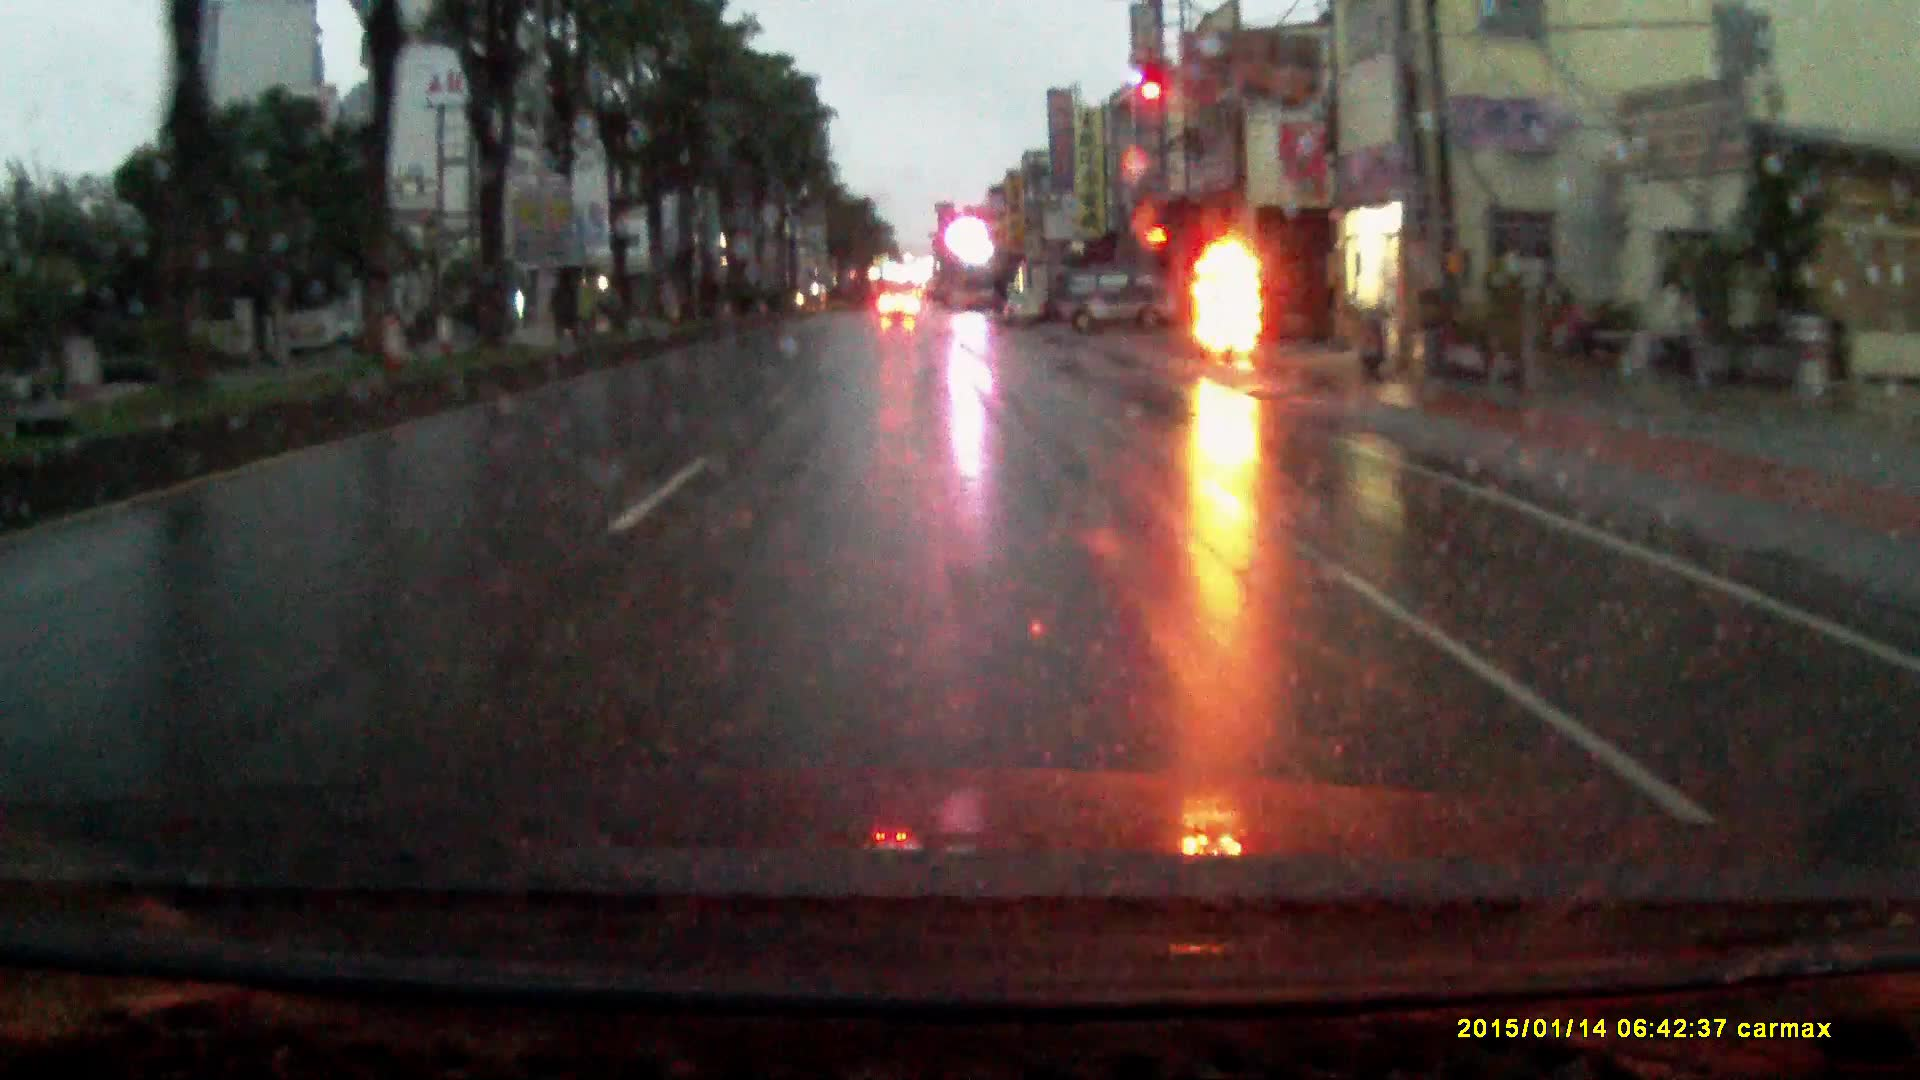vehicle: (1056, 268, 1185, 336), (1002, 290, 1048, 324), (878, 284, 920, 316)
